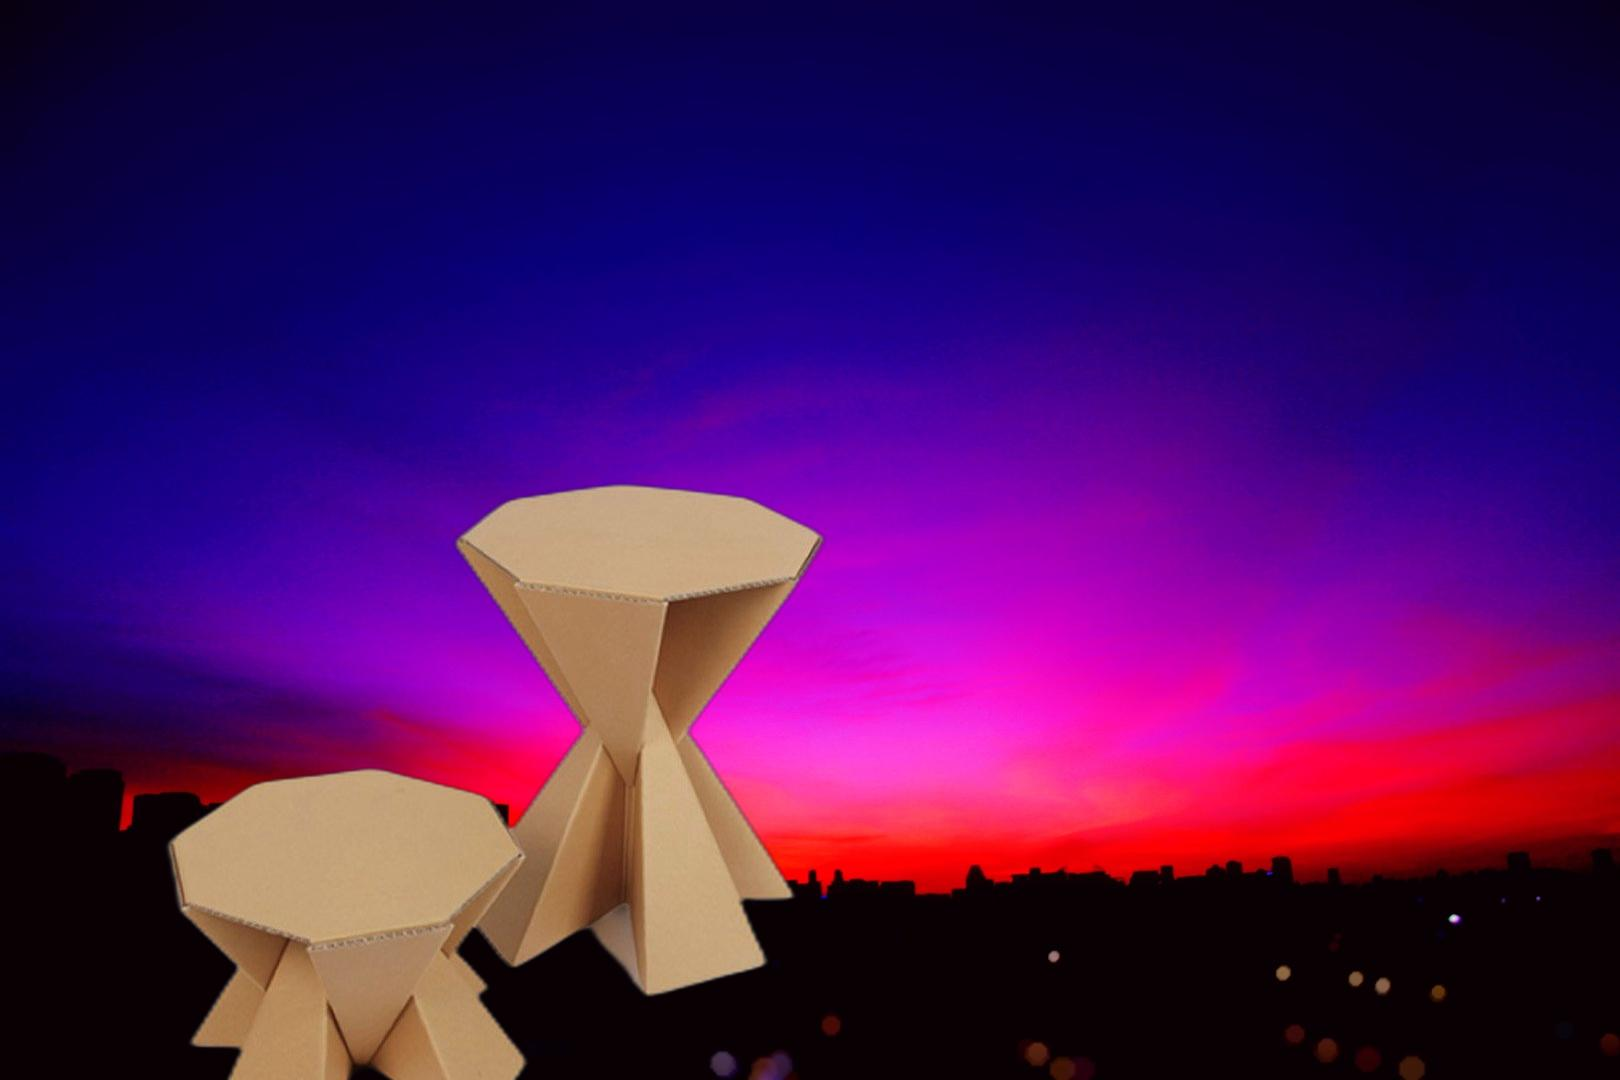trashbox-cardboard: (155, 479, 837, 1080)
